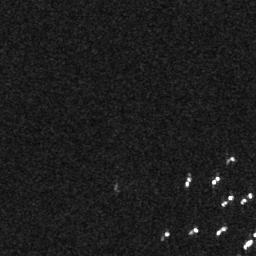ship: (242, 191, 253, 207), (241, 237, 254, 250), (222, 194, 234, 208), (217, 225, 227, 236), (184, 175, 192, 187), (212, 176, 220, 187)
